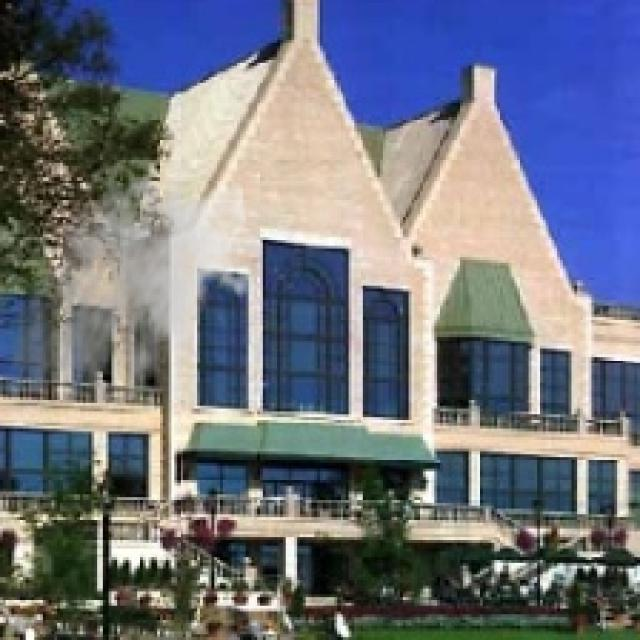smoke: (9, 166, 254, 423)
